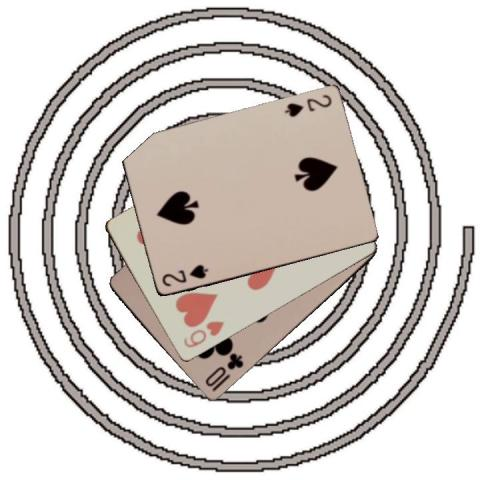10c: (202, 350, 245, 393)
2s: (159, 261, 210, 289), (282, 92, 333, 119)
6h: (180, 318, 225, 350)
